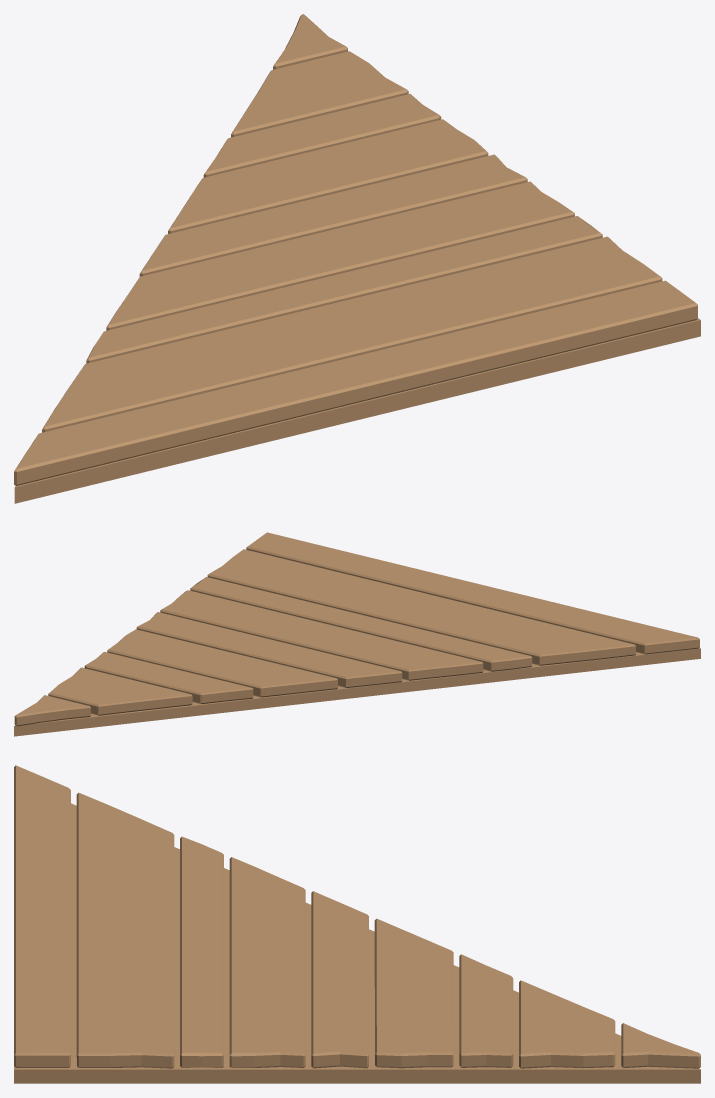
File: floor-c.glb
3 renders of one model, top to bottom at view 1: azimuth 30°, elevation 25°; view 2: azimuth 150°, elevation 25°; view 3: azimuth 270°, elevation 25°, orthographic. The views are drawn at different scales.
Visible parts, largest first — view 1: Floor C; view 2: Floor C; view 3: Floor C.
Part boxes in pixels (bbox=[...]): Floor C: bbox=[14, 14, 700, 503]; Floor C: bbox=[14, 532, 700, 736]; Floor C: bbox=[14, 765, 700, 1083].
Size of the model in its own units: 3.08 by 0.1438 by 3.08.
